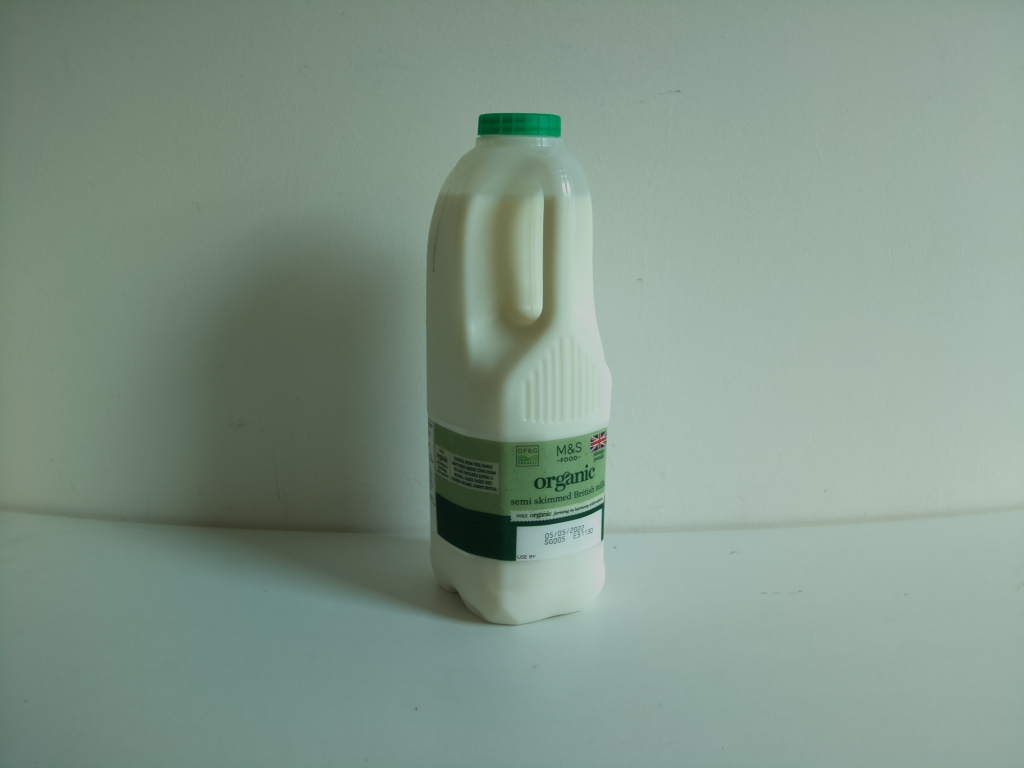milk: (419, 108, 617, 631)
